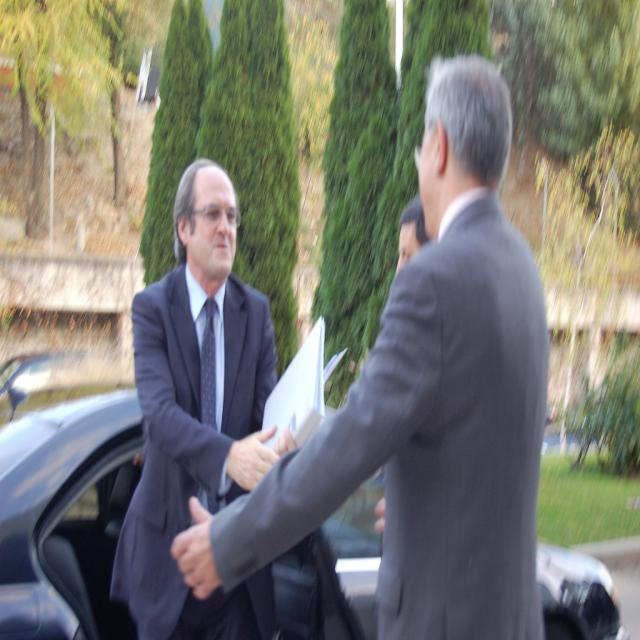car: (0, 388, 625, 638)
